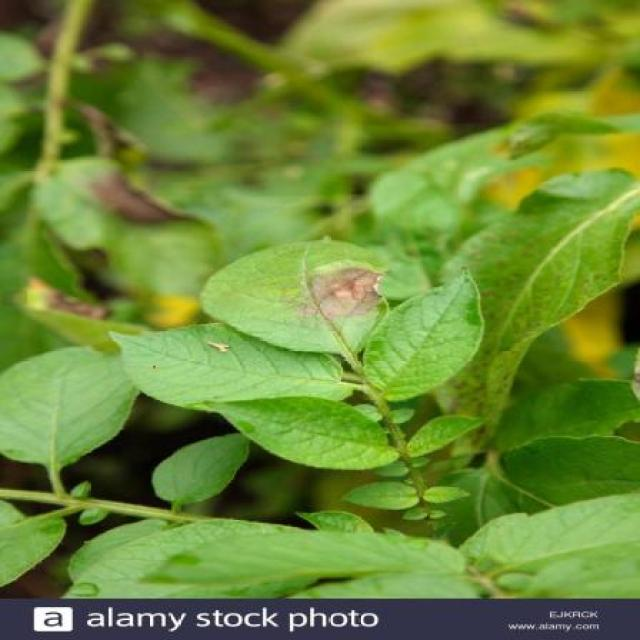Late Blight: (187, 235, 392, 358)
